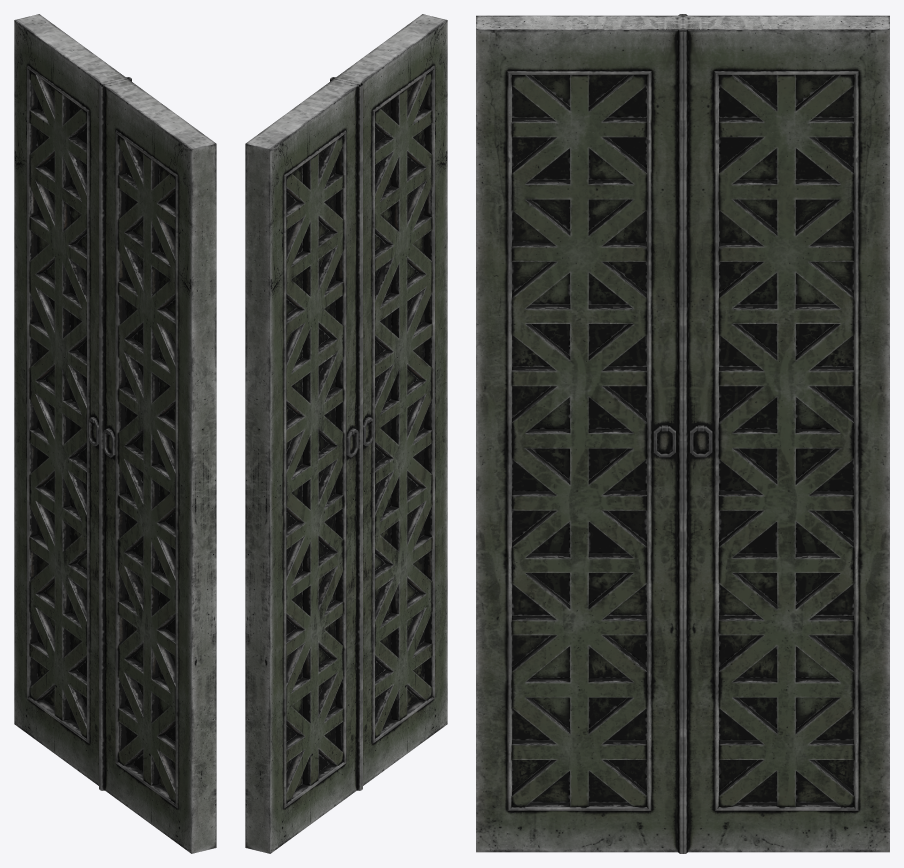
Rendered from SM_MDoorA.fbx.
3 views of the same model, side by side, from view 1: azimuth 30°, elevation 25°; view 2: azimuth 150°, elevation 25°; view 3: azimuth 270°, elevation 25° (orthographic). The views are drawn at different scales.
Parts seen in each view (by area): view 1: SM_MDoorA_LOD0; view 2: SM_MDoorA_LOD0; view 3: SM_MDoorA_LOD0.
Part boxes in pixels (<box>): SM_MDoorA_LOD0: <box>14,14,216,853</box>; SM_MDoorA_LOD0: <box>245,14,447,853</box>; SM_MDoorA_LOD0: <box>476,14,889,853</box>.
Size of the model in its own units: 9.79 by 94.91 by 208.
1 material, 1 textured.
